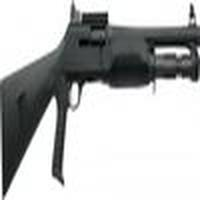gun: (1, 24, 196, 199)
